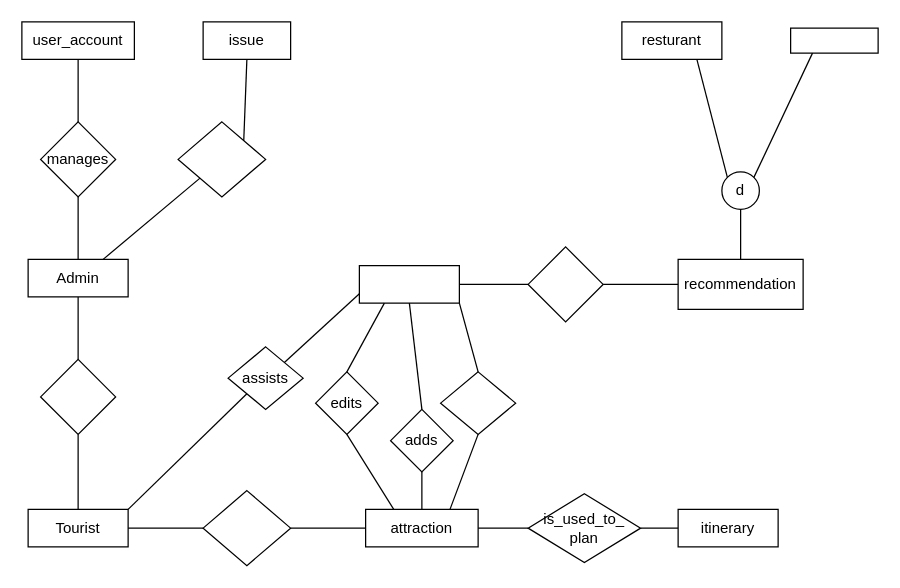
This 900x588 diagram has some shape labels left out. Here are the shapes that lost their labels. From the top down, the centre of each, then its label:
At point 833,40: "hotel".
At point 221,159: "handles".
At point 408,283: "local_guide".
At point 565,284: "provides".
At point 77,396: "monitors".
At point 477,402: "removes".
At point 246,527: "searches".
